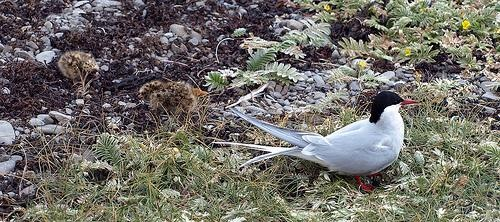bird: (218, 92, 425, 195)
